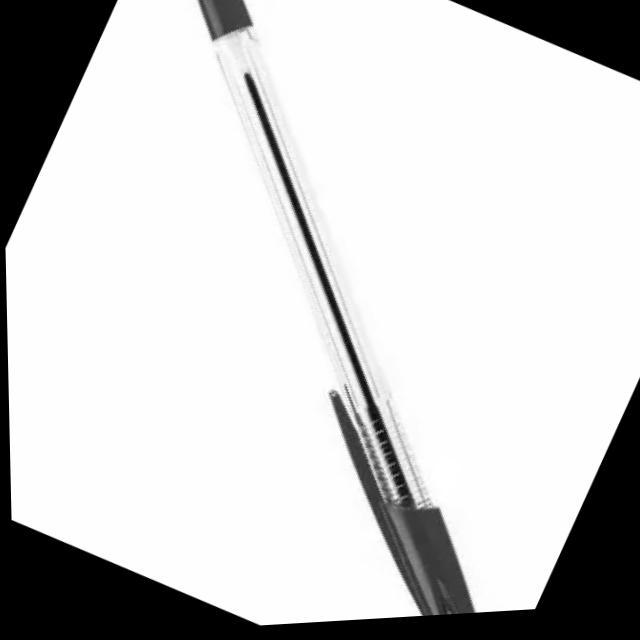pencil: (189, 0, 484, 612)
